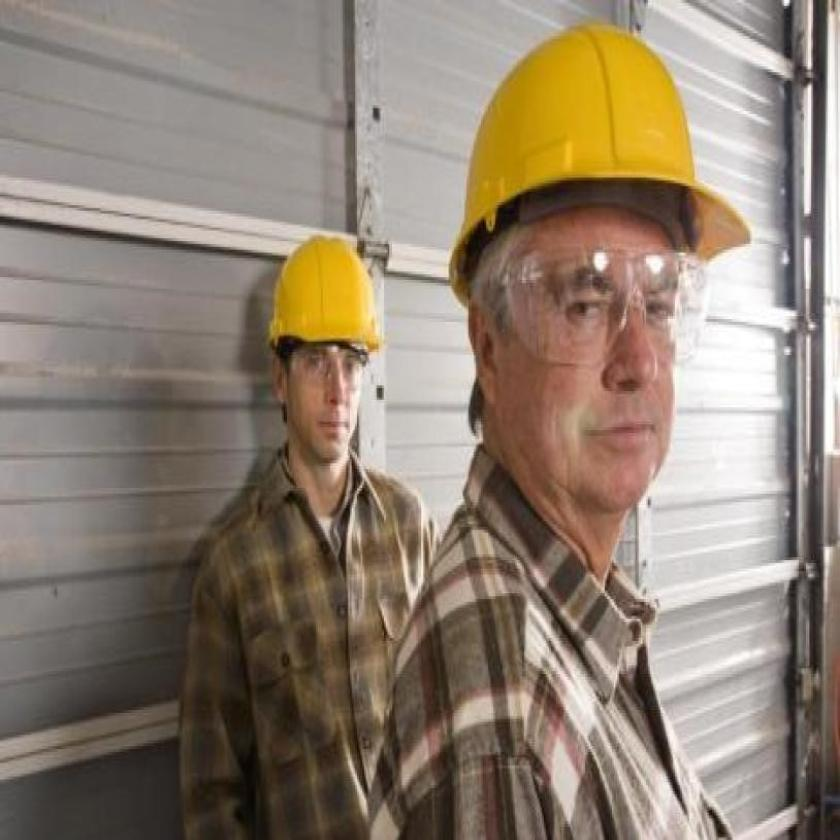Con_casco: (445, 18, 740, 570), (265, 234, 384, 480)
